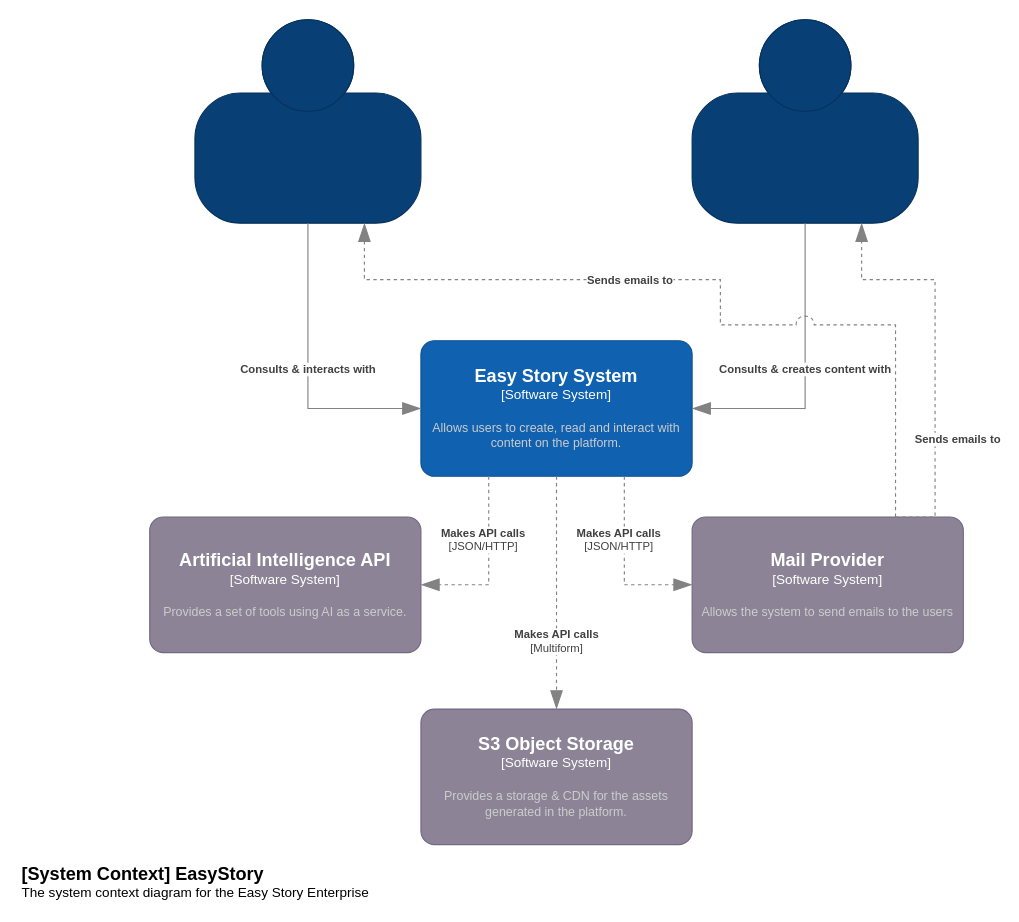
Some shapes in this 1019 by 922 pixel diagram are drawn without their labels. Each missing label, with the box of its shape:
EasyStory Reader [Person] A user that usually consumes content on the platform.: (194, 19, 421, 223)
EasyStory Writer [Person] A user that usually produces content on the platform.: (691, 19, 918, 223)
